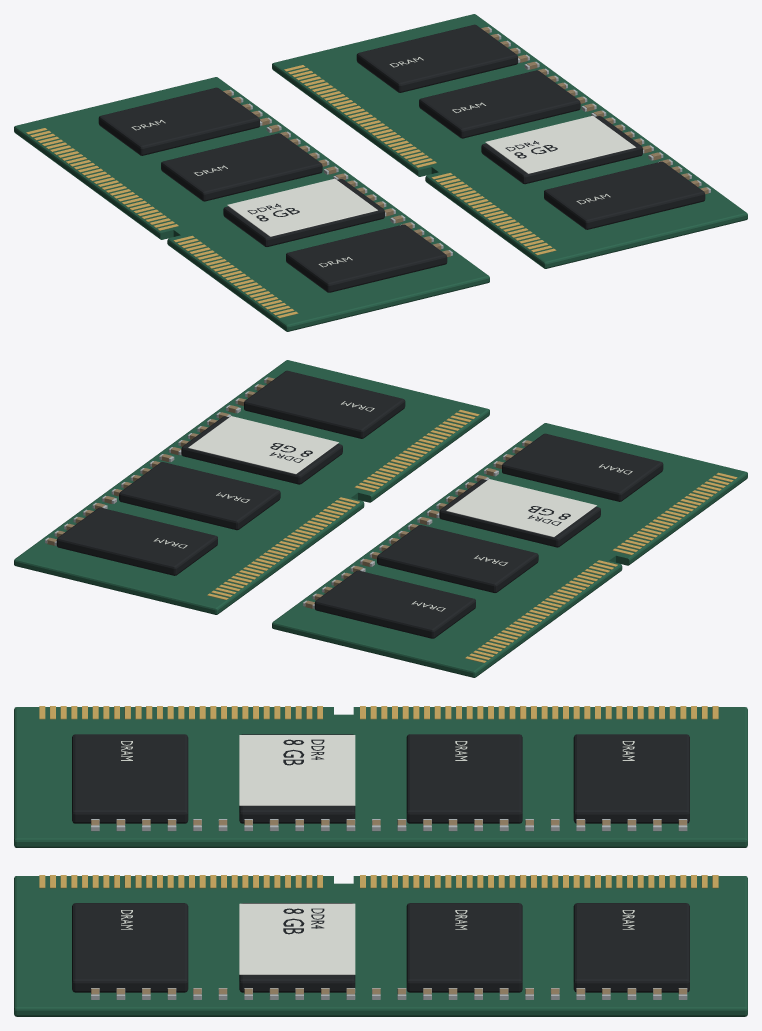
The model's file is ram.glb.
3 views of the same model, one above another, from view 1: azimuth 30°, elevation 25°; view 2: azimuth 150°, elevation 25°; view 3: azimuth 270°, elevation 25° (orthographic). The views are drawn at different scales.
Parts seen in each view (by area): view 1: ram; view 2: ram; view 3: ram.
Part boxes in pixels (x1,y1,x2,y2): ram: [14, 14, 747, 331]; ram: [14, 360, 747, 677]; ram: [14, 706, 747, 1016].
Size of the model in its own units: 1.54 by 0.0605 by 1.58.
